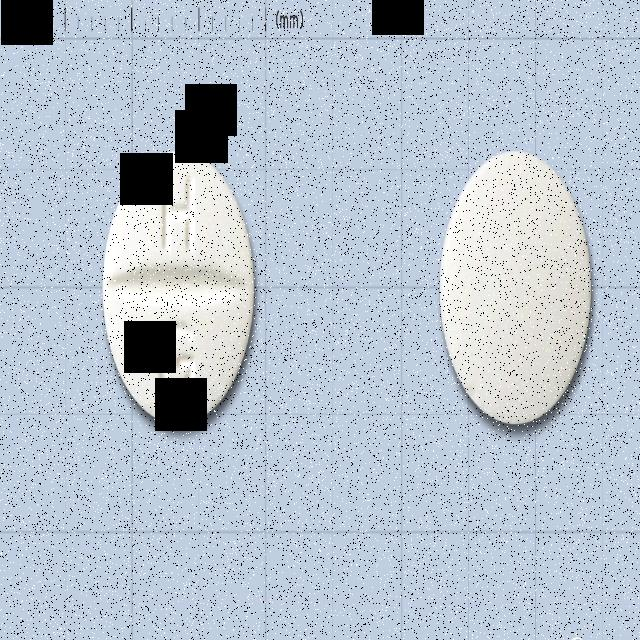Cipoxcin: (97, 142, 262, 439)
